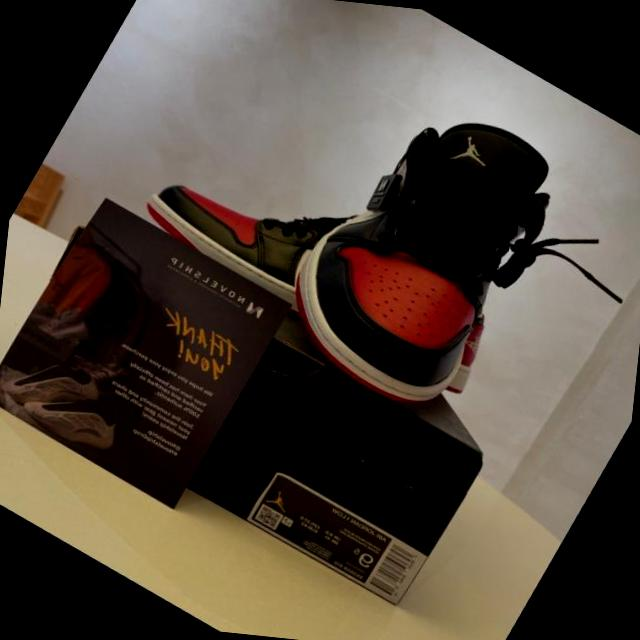nike_original_jordan: (245, 51, 598, 440), (107, 119, 524, 414)
